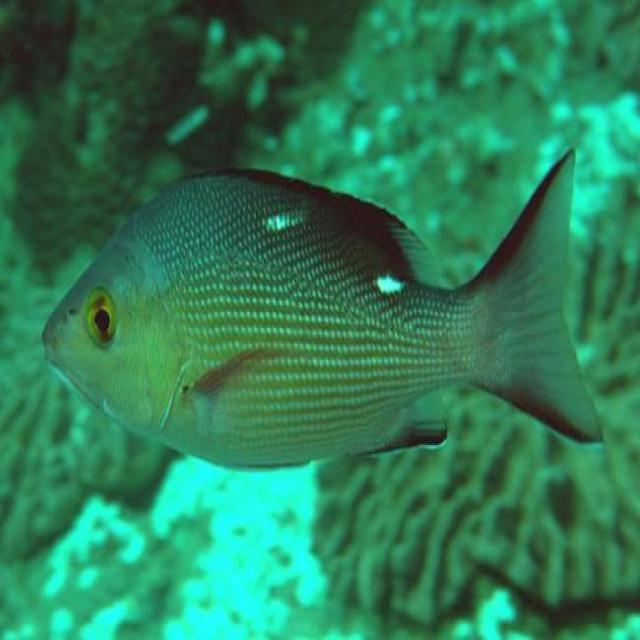ikan: (41, 146, 604, 472)
